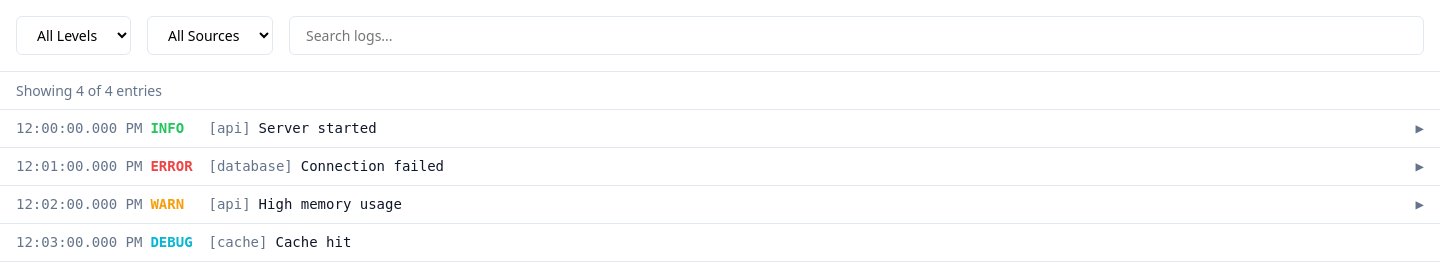
LogViewer › searches through messages
Type "connection" into the field with placeholder "Search logs..." at (856, 36), box [289,16,1424,55]
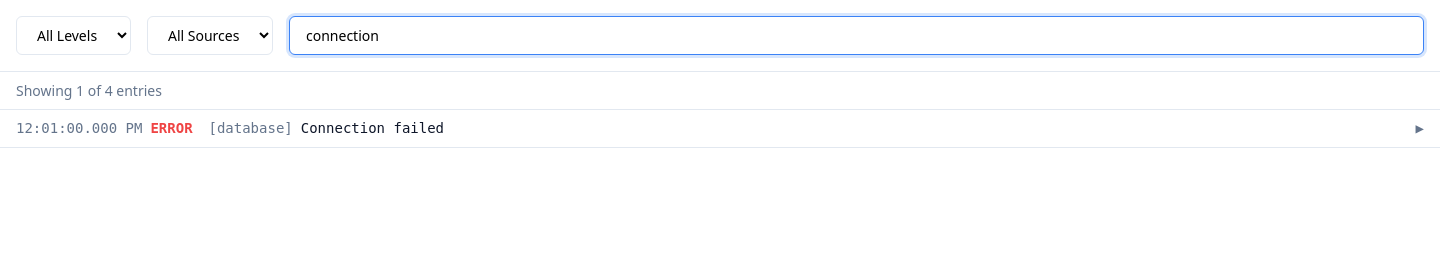
Check: the text "Connection failed" is shown, box [301,120,444,136]
Check: the text "Showing 1 of 4 entries" is shown, box [0,72,1439,110]
Check: the button "Server started" is gone
